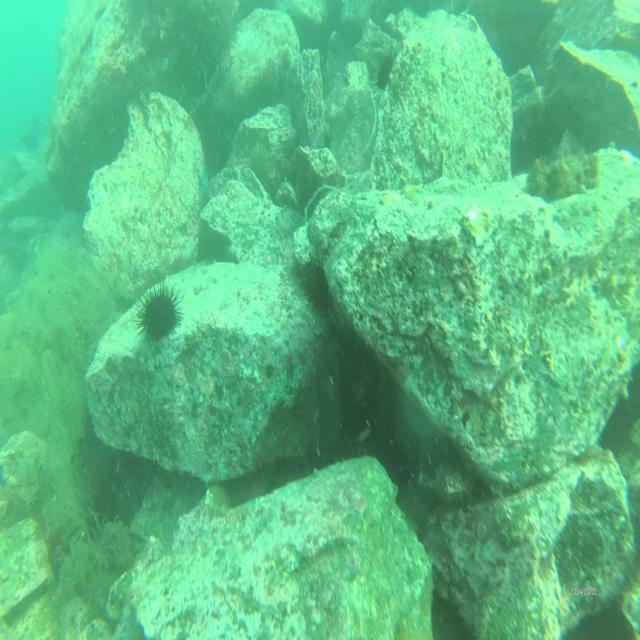echinus: (135, 280, 182, 348), (303, 257, 335, 325), (246, 140, 271, 193), (374, 50, 398, 90)
